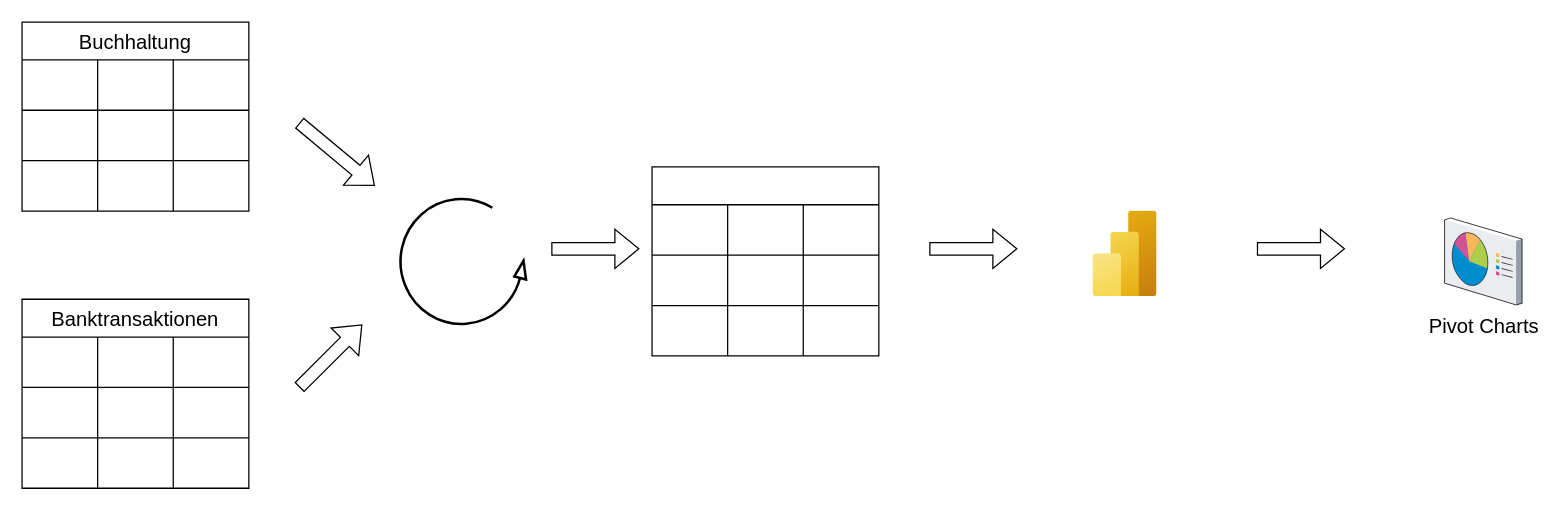
Some shapes in this 1560 by 510 pixel diagram are drawn without their labels. Each missing label, with the centre of its shape:
(Power) Pivot: point (1124, 253)
Ziel-Daten: point (765, 261)
